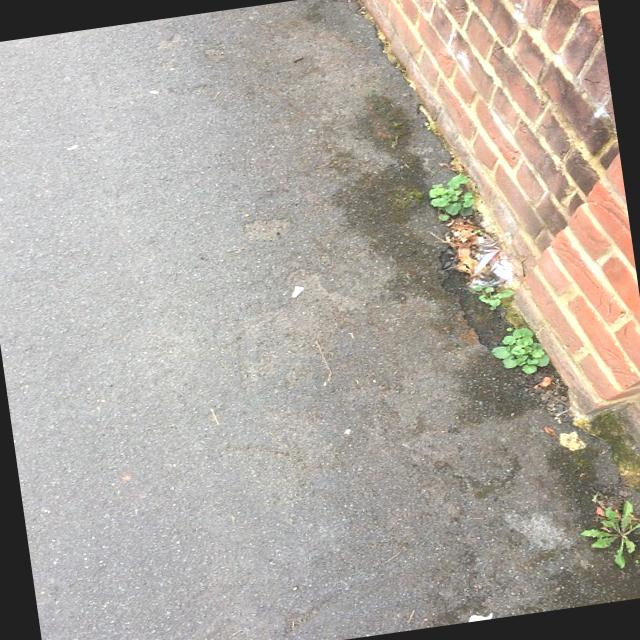Trash: (445, 216, 523, 312)
